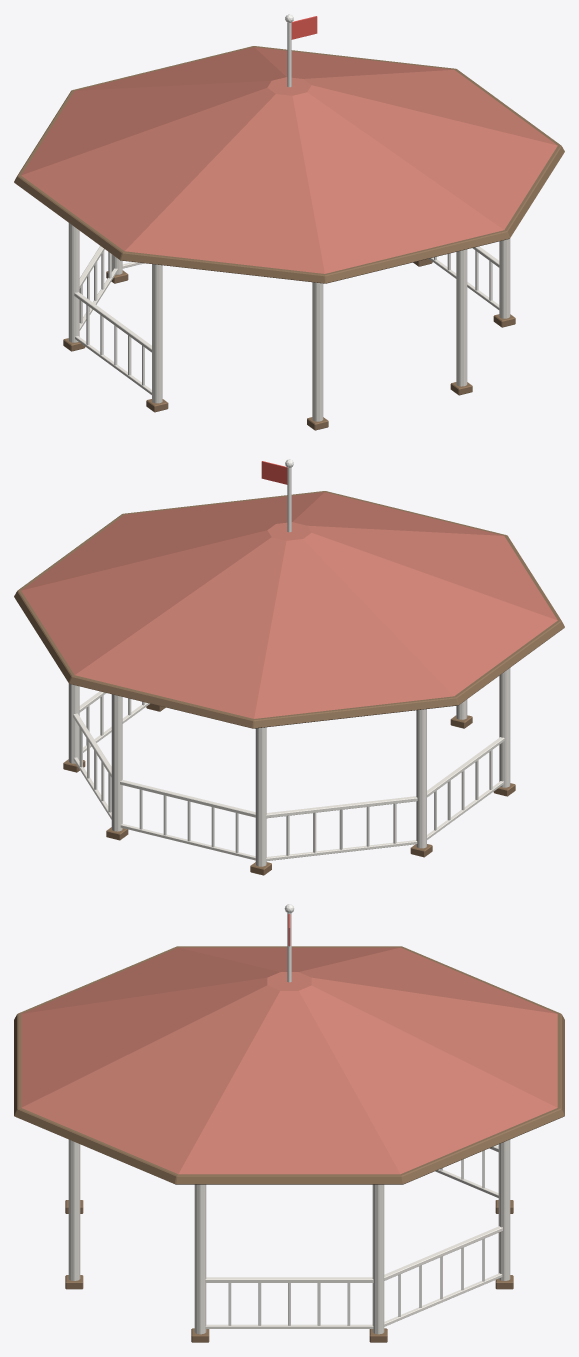
3 views of the same model, one above another, from view 1: azimuth 30°, elevation 25°; view 2: azimuth 150°, elevation 25°; view 3: azimuth 270°, elevation 25° (orthographic). The views are drawn at different scales.
Visible parts, largest first — view 1: Pavilion; view 2: Pavilion; view 3: Pavilion.
Boxes of the visible parts, x1=… form: Pavilion: x1=14, y1=14, x2=564, y2=430; Pavilion: x1=14, y1=459, x2=564, y2=875; Pavilion: x1=14, y1=904, x2=564, y2=1342.
Size of the model in its own units: 8.05 by 5.54 by 8.05.
